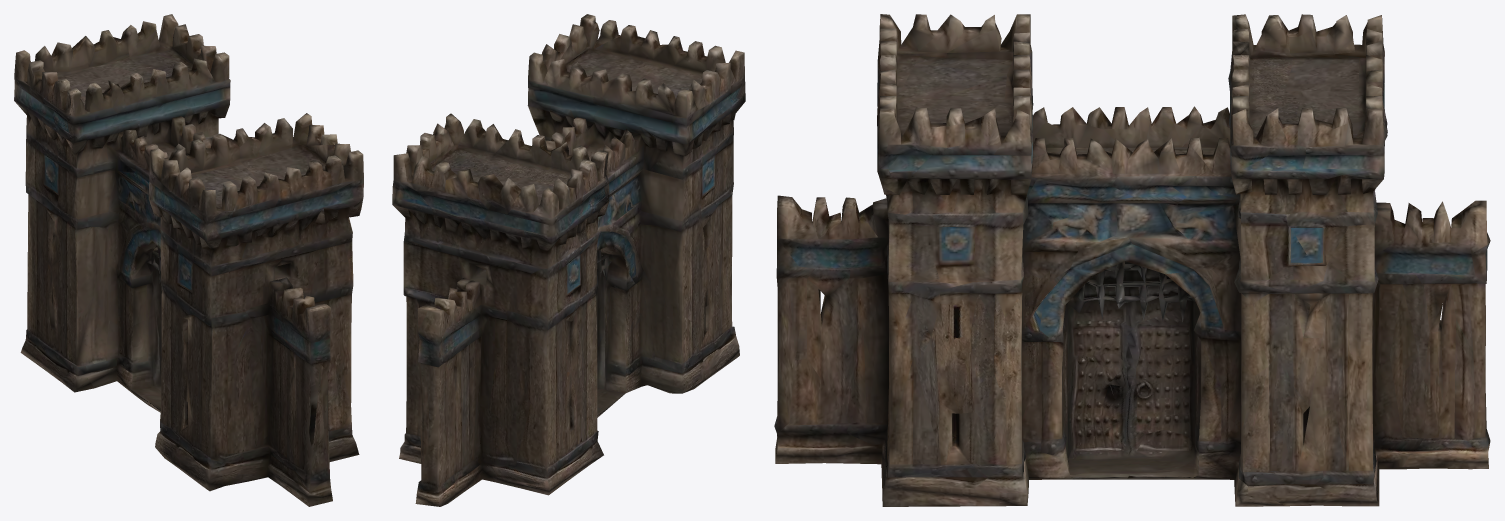
File: castle_gate_wood.glb
The picture shows the model from 3 angles, left to right: view 1: azimuth 30°, elevation 25°; view 2: azimuth 150°, elevation 25°; view 3: azimuth 270°, elevation 25°; orthographic projection. The views are drawn at different scales.
Parts seen in each view (by area): view 1: tripo_node_5e163002-5d4c-4927-a084-0bafd74fdaf5; view 2: tripo_node_5e163002-5d4c-4927-a084-0bafd74fdaf5; view 3: tripo_node_5e163002-5d4c-4927-a084-0bafd74fdaf5.
Part boxes in pixels (bbox=[...]): tripo_node_5e163002-5d4c-4927-a084-0bafd74fdaf5: bbox=[14, 14, 363, 506]; tripo_node_5e163002-5d4c-4927-a084-0bafd74fdaf5: bbox=[392, 14, 745, 506]; tripo_node_5e163002-5d4c-4927-a084-0bafd74fdaf5: bbox=[774, 14, 1490, 506].
Bounding box in the file's own units: 0.3362 × 0.595 × 0.9779.
Materials: 1 (1 with a texture image).
